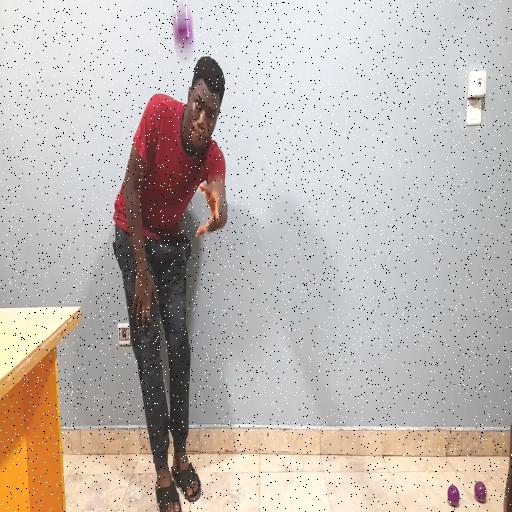plastic-ball: (172, 4, 192, 48)
